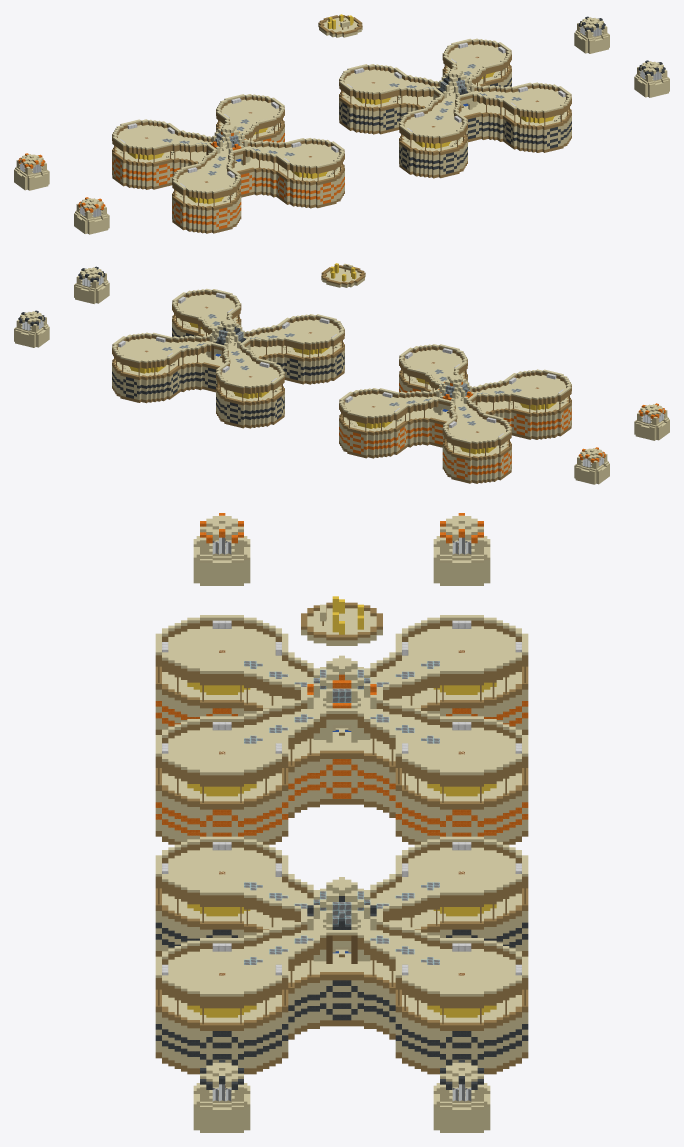
Rendered from minecraft.obj.
The picture shows the model from 3 angles, top to bottom: view 1: azimuth 30°, elevation 25°; view 2: azimuth 150°, elevation 25°; view 3: azimuth 270°, elevation 25°; orthographic projection. The views are drawn at different scales.
Size of the model in its own units: 214 by 49 by 59.
